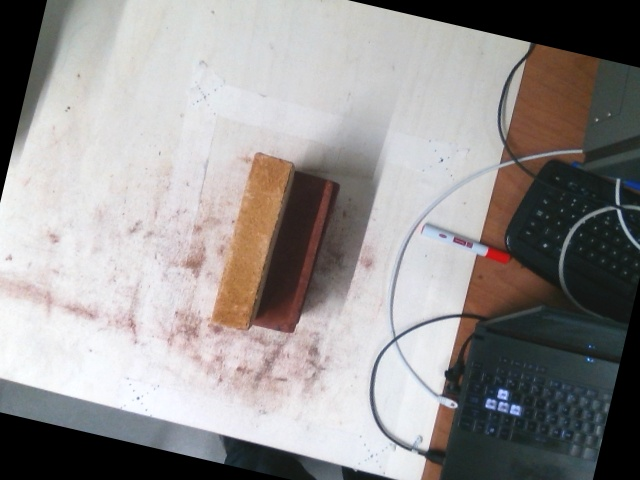brick-side: (212, 151, 290, 328)
